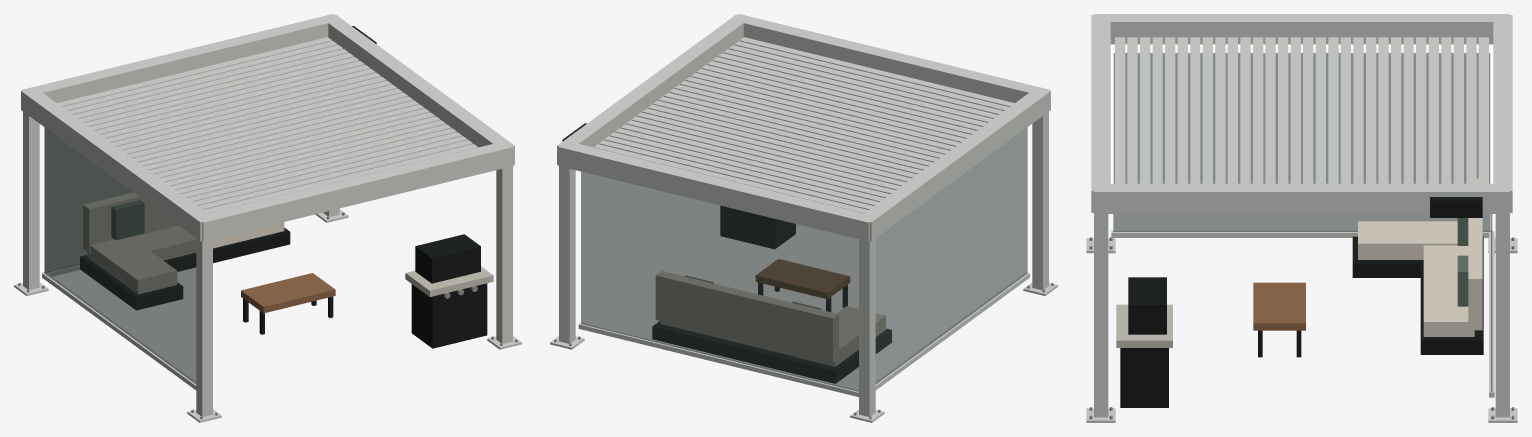
File: coordinatez-axis-13x13-cloud.glb
3 renders of one model, left to right at view 1: azimuth 30°, elevation 25°; view 2: azimuth 150°, elevation 25°; view 3: azimuth 270°, elevation 25°, orthographic. The views are drawn at different scales.
Parts seen in each view (by area): view 1: Left motorized wall, Structural post (×3), Front motor beam, Rear drainage beam, Rear motorized wall, Left beam, Right beam, BBQ cabinet, Chaise cushion, BBQ hood, Coffee table top, Sofa seat (+34 smaller); view 2: Rear motorized wall, Left motorized wall, Sofa back, Structural post (×3), Rear drainage beam, Front motor beam, Left beam, Right beam, Sofa base, Coffee table top, BBQ cabinet, Rear wall bottom rail (+31 smaller); view 3: Left motorized wall, Right beam, Left beam, Structural post (×2), Sofa seat, Rear drainage beam, Front motor beam, Chaise cushion, BBQ cabinet, Coffee table top, BBQ hood, Left wall bottom rail (+39 smaller).
Part boxes in pixels (x1,y1,x2,y2): Left motorized wall: (44, 127, 196, 383); Structural post (×3): (23, 111, 512, 416); Front motor beam: (195, 144, 513, 241); Rear drainage beam: (22, 14, 339, 102); Rear motorized wall: (45, 128, 132, 272); Left beam: (21, 87, 209, 241); Right beam: (322, 14, 514, 164); BBQ cabinet: (411, 283, 487, 348); Chaise cushion: (87, 237, 176, 294); BBQ hood: (415, 234, 480, 283); Coffee table top: (241, 273, 335, 313); Sofa seat: (132, 222, 284, 260); Rear motorized wall: (581, 171, 858, 391); Left motorized wall: (875, 127, 1027, 383); Sofa back: (656, 271, 838, 362); Structural post (×3): (559, 111, 1048, 416); Rear drainage beam: (558, 142, 876, 241); Front motor beam: (732, 14, 1049, 102); Left beam: (860, 87, 1050, 241); Right beam: (557, 14, 749, 164); Sofa base: (652, 321, 858, 383); Coffee table top: (756, 259, 849, 298); BBQ cabinet: (720, 206, 795, 248); Rear wall bottom rail: (578, 323, 858, 396); Left motorized wall: (1113, 53, 1490, 231); Right beam: (1094, 183, 1509, 213); Left beam: (1094, 14, 1509, 44); Structural post (×2): (1094, 214, 1509, 417); Sofa seat: (1423, 245, 1474, 336); Rear drainage beam: (1493, 15, 1512, 212); Front motor beam: (1091, 15, 1110, 212); Chaise cushion: (1358, 221, 1457, 259); BBQ cabinet: (1120, 348, 1168, 407); Coffee table top: (1253, 282, 1305, 330); BBQ hood: (1128, 277, 1166, 334); Left wall bottom rail: (1111, 230, 1492, 237).
Bounding box in the file's own units: 4.29 × 2.49 × 4.25.
